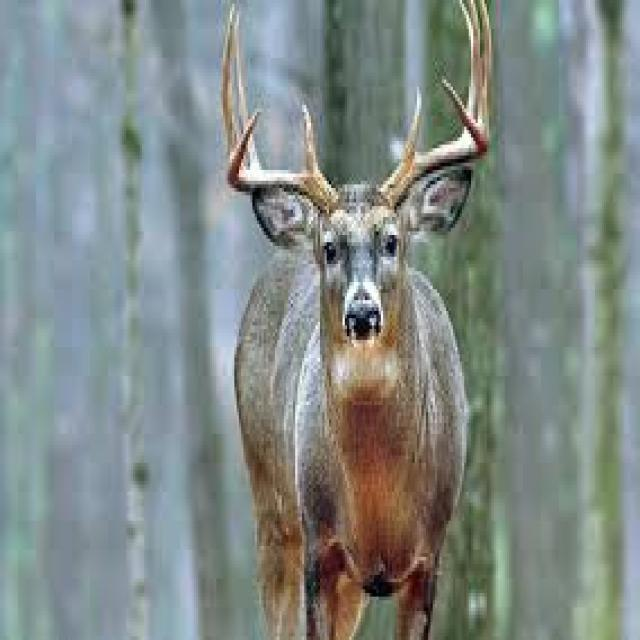deer: (225, 0, 491, 636)
